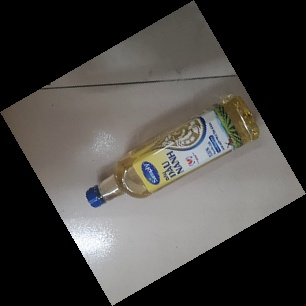Simply: (85, 91, 264, 209)
